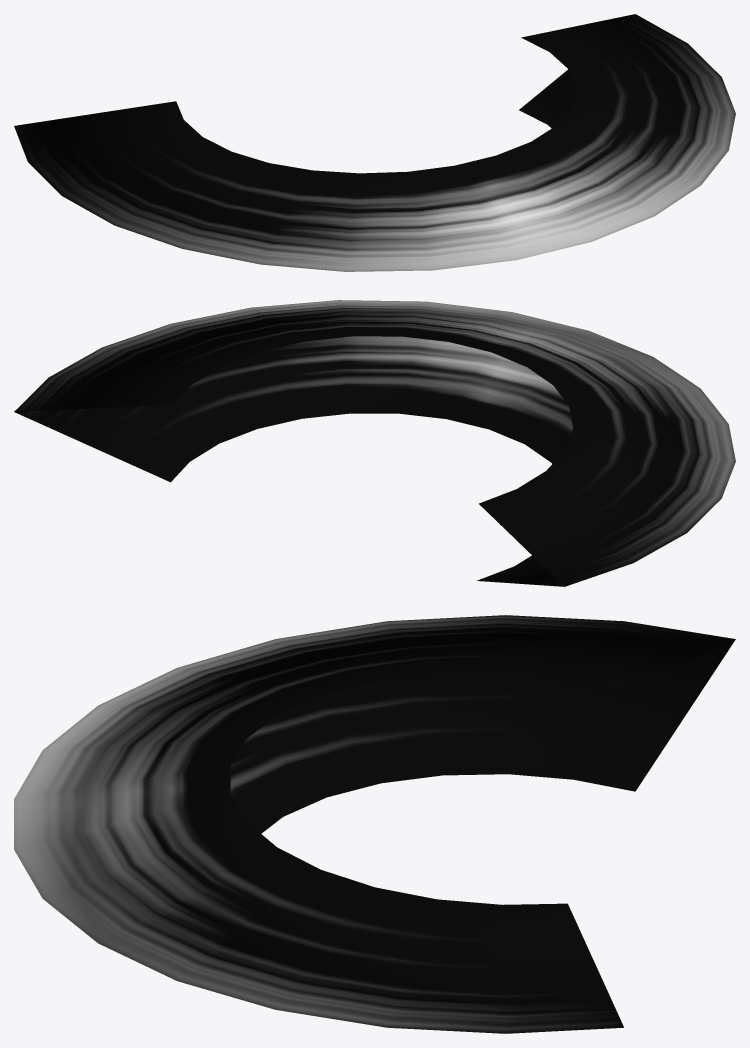
Rendered from daoguang.FBX.
3 renders of one model, top to bottom at view 1: azimuth 30°, elevation 25°; view 2: azimuth 150°, elevation 25°; view 3: azimuth 270°, elevation 25°, orthographic. The views are drawn at different scales.
Parts seen in each view (by area): view 1: Cylinder001; view 2: Cylinder001; view 3: Cylinder001.
Part boxes in pixels (box(x1,y1,x2,y2)): Cylinder001: box(14, 14, 735, 271); Cylinder001: box(14, 300, 735, 586); Cylinder001: box(14, 615, 735, 1033).
Size of the model in its own units: 180 by 23.04 by 131.
